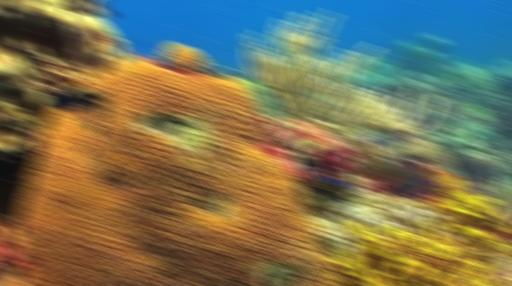Fish: (50, 88, 97, 110), (398, 177, 435, 199), (93, 0, 114, 14), (300, 158, 319, 173), (390, 155, 407, 170), (325, 176, 344, 187), (364, 136, 377, 149)
